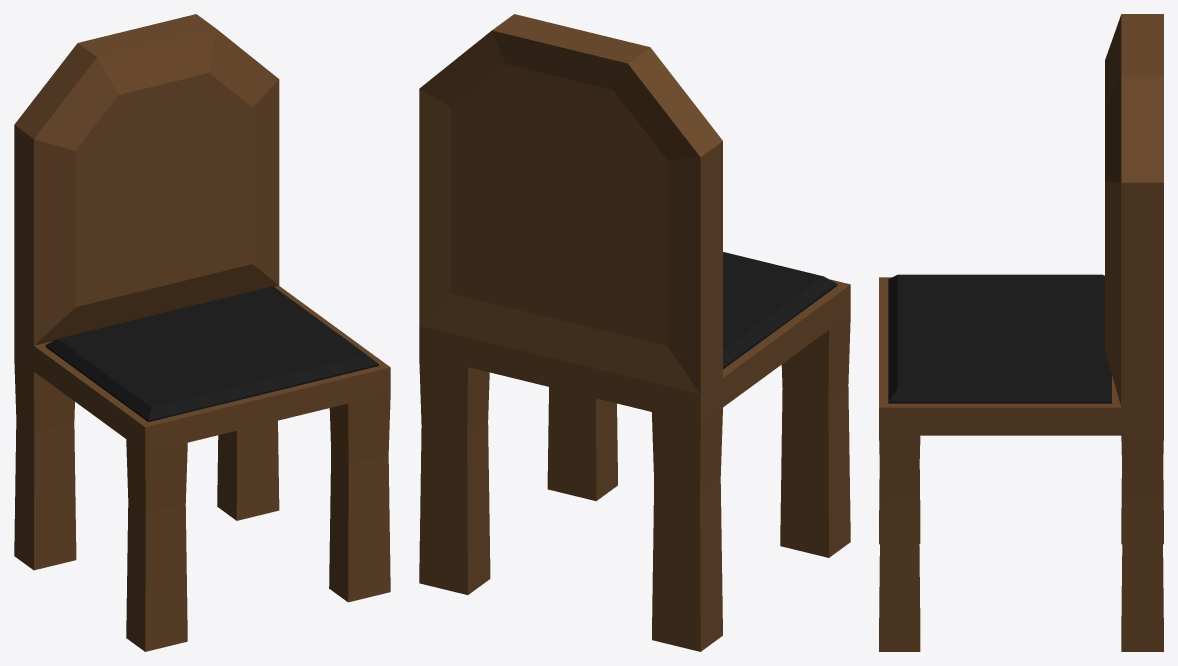
File: Chair.fbx
3 views of the same model, side by side, from view 1: azimuth 30°, elevation 25°; view 2: azimuth 150°, elevation 25°; view 3: azimuth 270°, elevation 25° (orthographic). The views are drawn at different scales.
Visible parts, largest first — view 1: Chair; view 2: Chair; view 3: Chair.
Part boxes in pixels (x1,y1,x2,y2): Chair: (14,14,390,651); Chair: (419,14,850,651); Chair: (879,14,1163,651).
Bounding box in the file's own units: 0.5355 × 1.04 × 0.4949.
